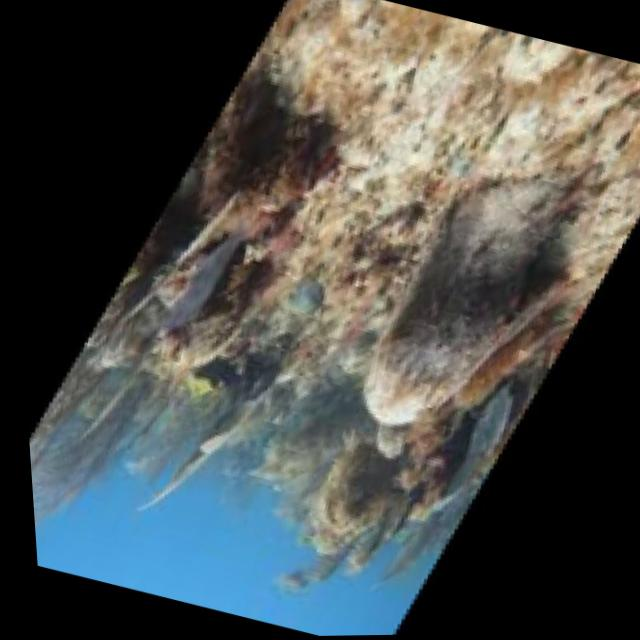Dead Coral: (90, 52, 371, 475), (292, 147, 577, 504)
